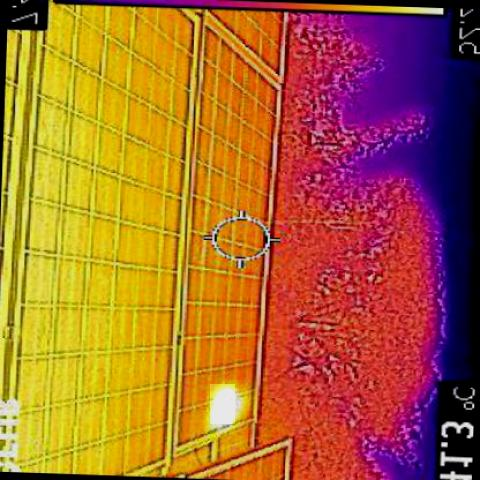fault: (210, 384, 235, 424)
